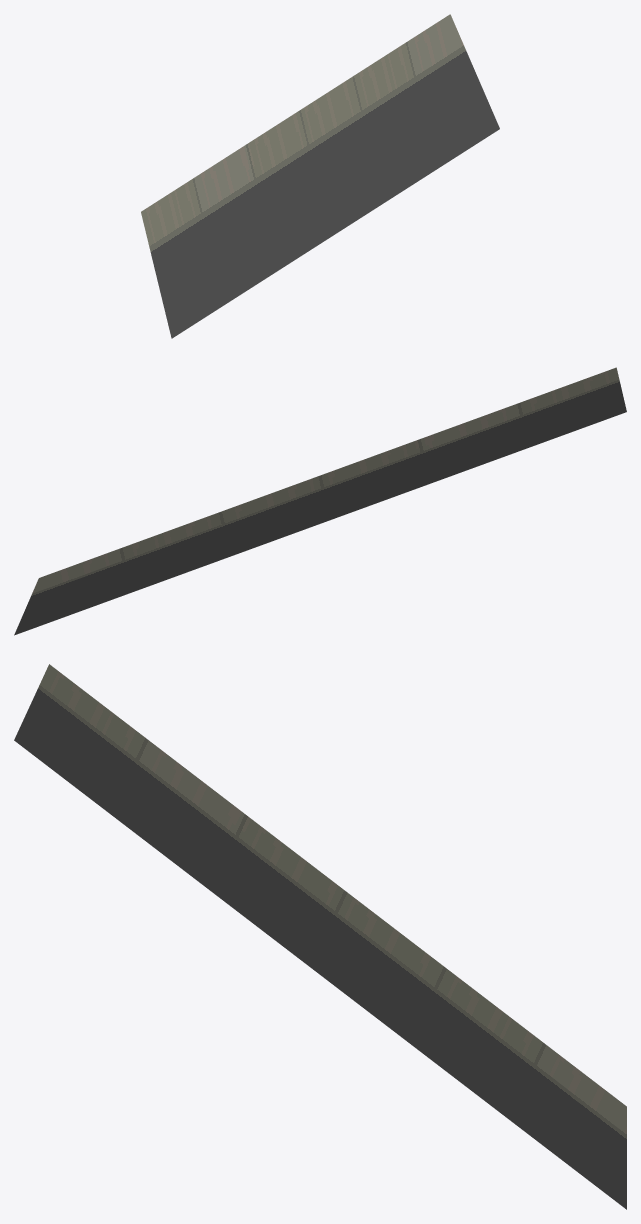
The model's file is kd_stage_135b75_4_94_bounded_portal_piece_5.glb.
3 renders of one model, top to bottom at view 1: azimuth 30°, elevation 25°; view 2: azimuth 150°, elevation 25°; view 3: azimuth 270°, elevation 25°, orthographic. The views are drawn at different scales.
Visible parts, largest first — view 1: kd_stage_135b75_4_94_bounded_portal_piece_5; view 2: kd_stage_135b75_4_94_bounded_portal_piece_5; view 3: kd_stage_135b75_4_94_bounded_portal_piece_5.
Part boxes in pixels (box(x1,y1,x2,y2)): kd_stage_135b75_4_94_bounded_portal_piece_5: box(141, 14, 499, 338); kd_stage_135b75_4_94_bounded_portal_piece_5: box(14, 367, 626, 635); kd_stage_135b75_4_94_bounded_portal_piece_5: box(14, 664, 626, 1209).
Size of the model in its own units: 1.01 by 0.5154 by 1.
Materials: 1 (1 with a texture image).
